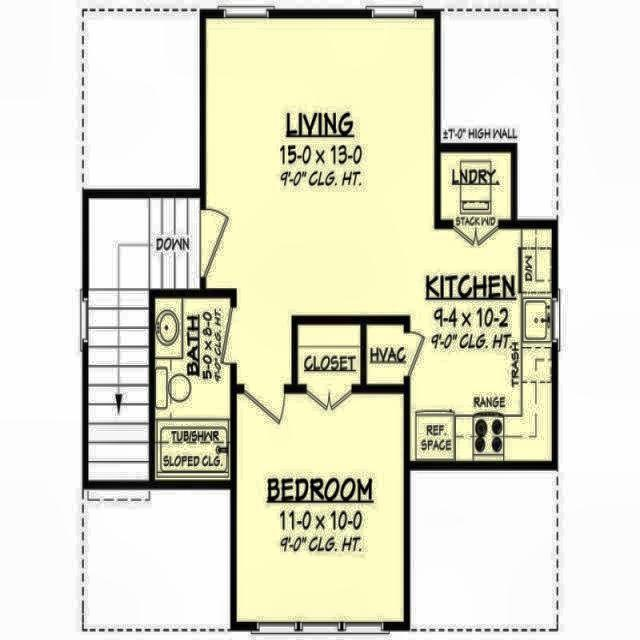room: (206, 17, 552, 463), (236, 393, 404, 621), (90, 200, 200, 479), (156, 300, 230, 480), (442, 155, 510, 218), (298, 325, 359, 380), (366, 325, 404, 383)
